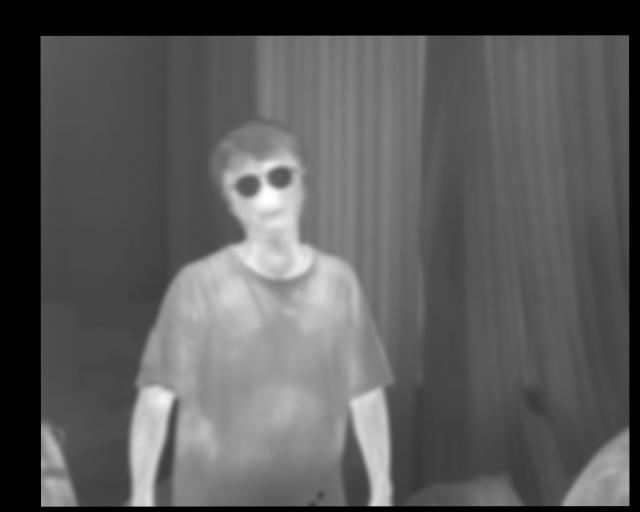face: (208, 116, 309, 241)
